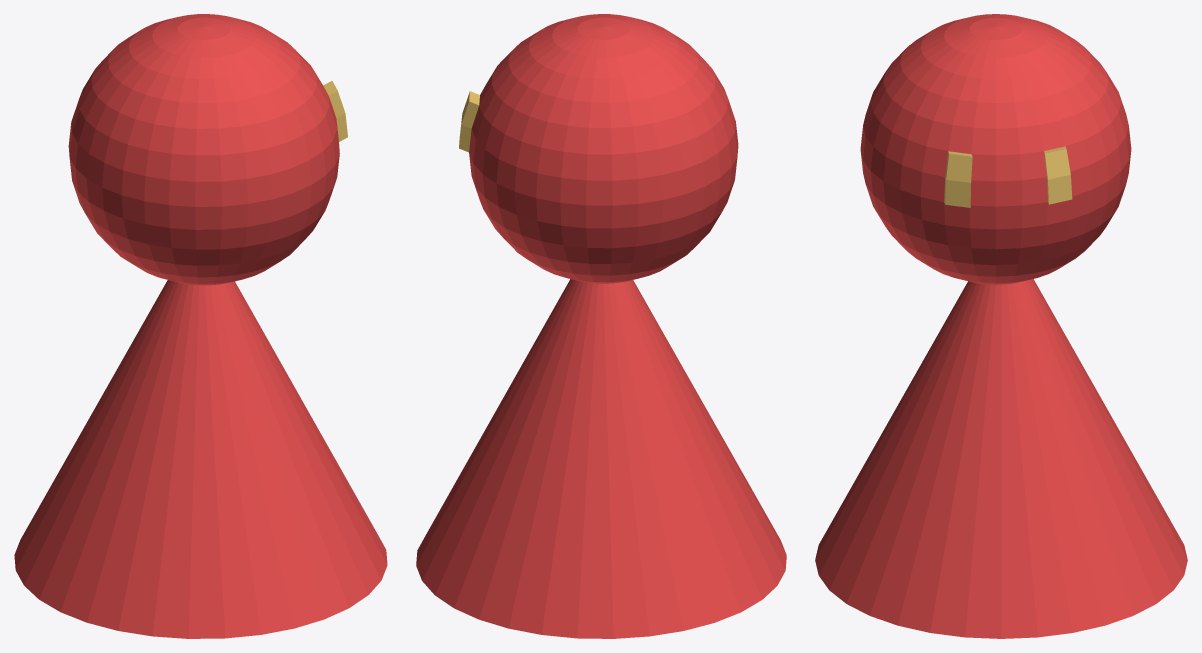
File: animate3_3.glb
The picture shows the model from 3 angles, left to right: view 1: azimuth 30°, elevation 25°; view 2: azimuth 150°, elevation 25°; view 3: azimuth 270°, elevation 25°; orthographic projection.
Visible parts, largest first — view 1: hito3_3; view 2: hito3_3; view 3: hito3_3.
Boxes of the visible parts, <box> form: hito3_3: <box>14,14,387,638</box>; hito3_3: <box>416,14,786,638</box>; hito3_3: <box>815,14,1187,638</box>.
Size of the model in its own units: 1.7 by 2.69 by 1.7.
